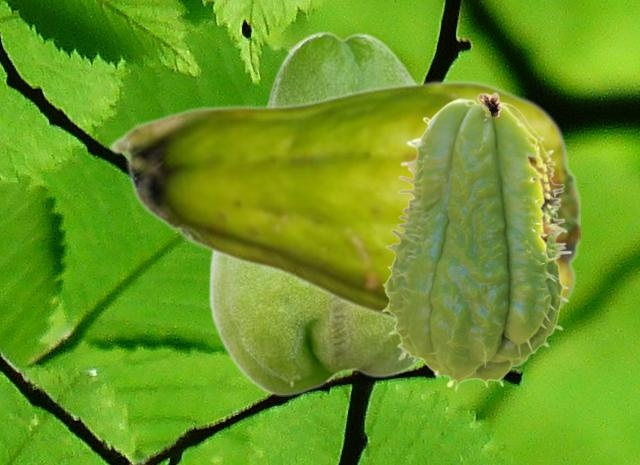sayote: (108, 79, 579, 322), (207, 30, 422, 395), (380, 91, 571, 391)
